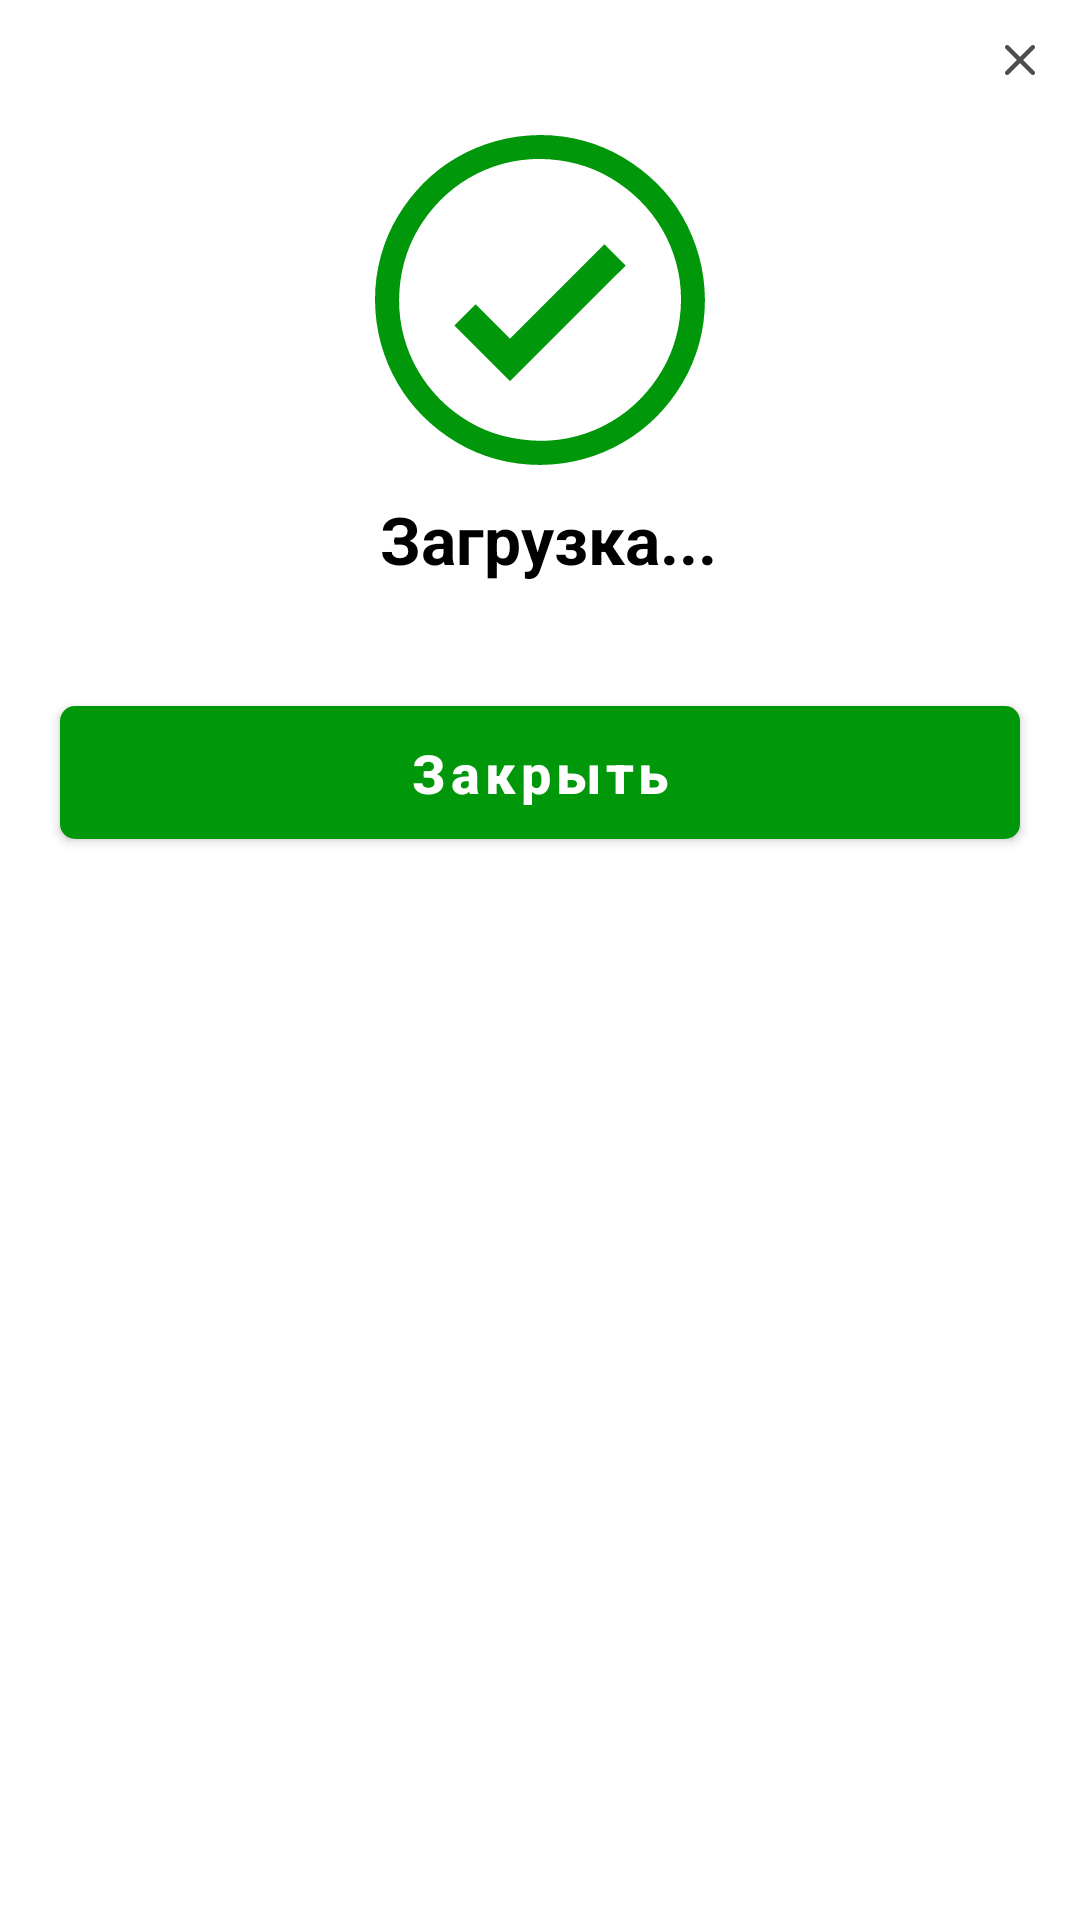

Point at icon controls on the screen. Image size 1080w x 1920h, points as point (x, y).
close: point (1020, 60)
successfully: point (540, 300)
